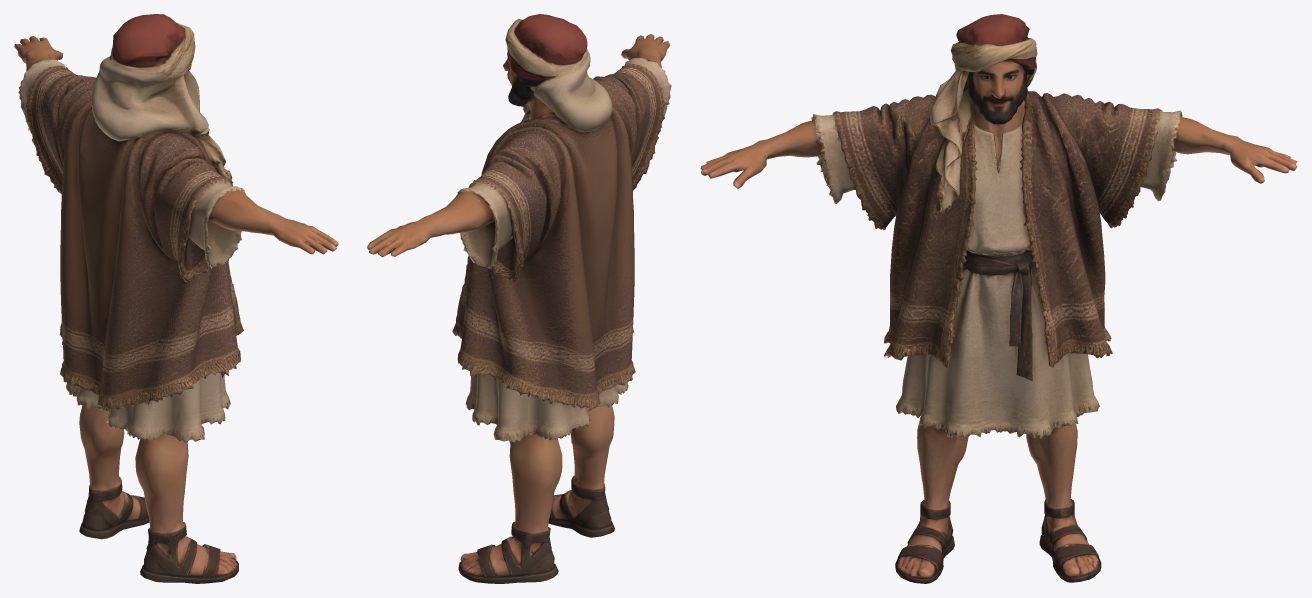
File: source-pbr_model.glb
3 renders of one model, left to right at view 1: azimuth 30°, elevation 25°; view 2: azimuth 150°, elevation 25°; view 3: azimuth 270°, elevation 25°, orthographic.
Visible parts, largest first — view 1: tripo_node_8783adcb-60da-4126-a1bf-1cc405543bb9; view 2: tripo_node_8783adcb-60da-4126-a1bf-1cc405543bb9; view 3: tripo_node_8783adcb-60da-4126-a1bf-1cc405543bb9.
Part boxes in pixels (x1,y1,x2,y2): tripo_node_8783adcb-60da-4126-a1bf-1cc405543bb9: (14,14,338,583); tripo_node_8783adcb-60da-4126-a1bf-1cc405543bb9: (367,14,671,583); tripo_node_8783adcb-60da-4126-a1bf-1cc405543bb9: (700,14,1297,583).
Bounding box in the file's own units: 0.2702 × 1 × 0.9949.
1 material, 1 textured.
